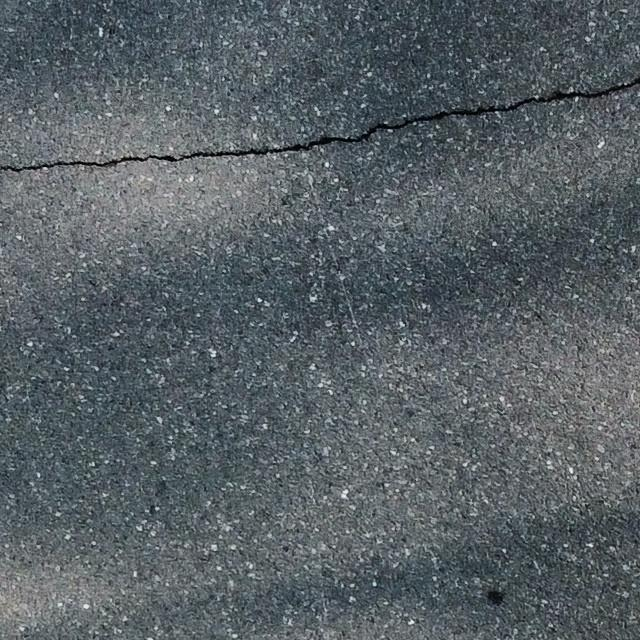TransverseCrack: (1, 77, 640, 172)
